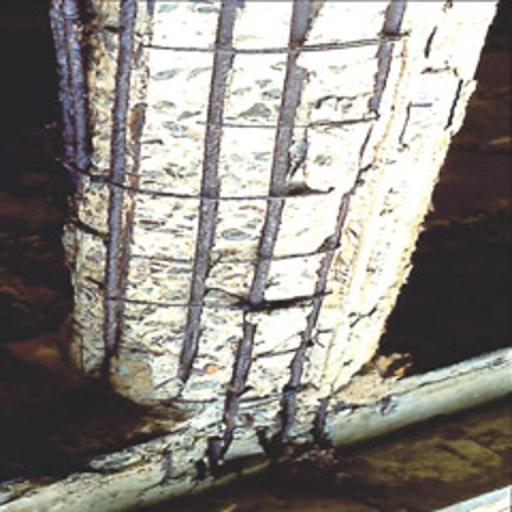spalling: (56, 2, 452, 476)
